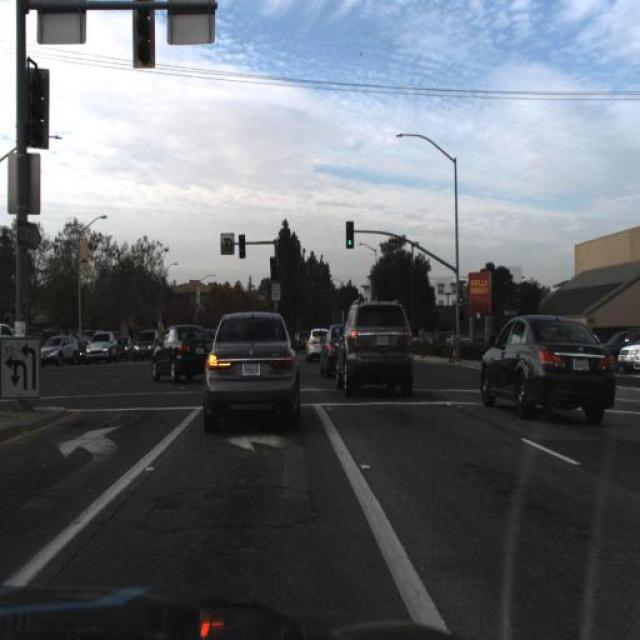car: (471, 316, 618, 442), (205, 308, 299, 434), (339, 296, 419, 402), (140, 326, 204, 382), (317, 319, 339, 380), (300, 326, 331, 362), (40, 334, 74, 360), (290, 318, 310, 358), (86, 328, 115, 354), (188, 330, 206, 356), (116, 332, 133, 357)
trafficLight: (444, 324, 456, 360), (418, 322, 428, 362)
trafficLight-GreenLeft: (234, 235, 246, 263), (344, 220, 355, 249), (265, 256, 276, 276), (459, 292, 467, 312)
